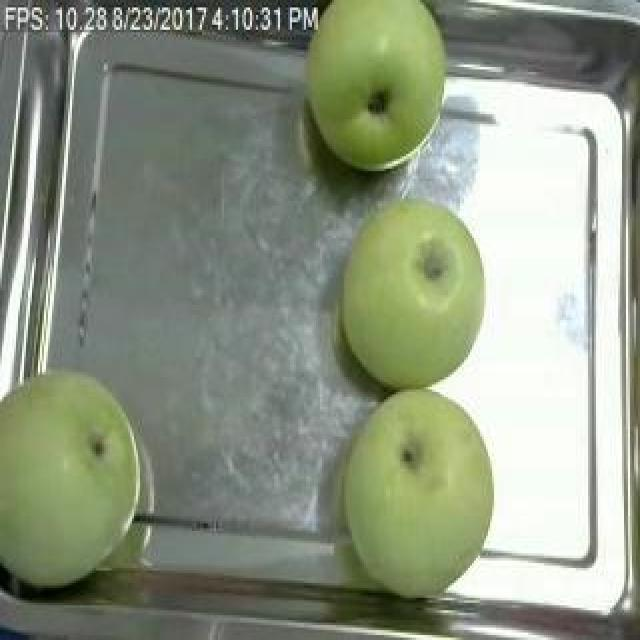Rotten Apple: (0, 355, 166, 593), (344, 186, 490, 387), (297, 0, 467, 169), (348, 394, 496, 583)
